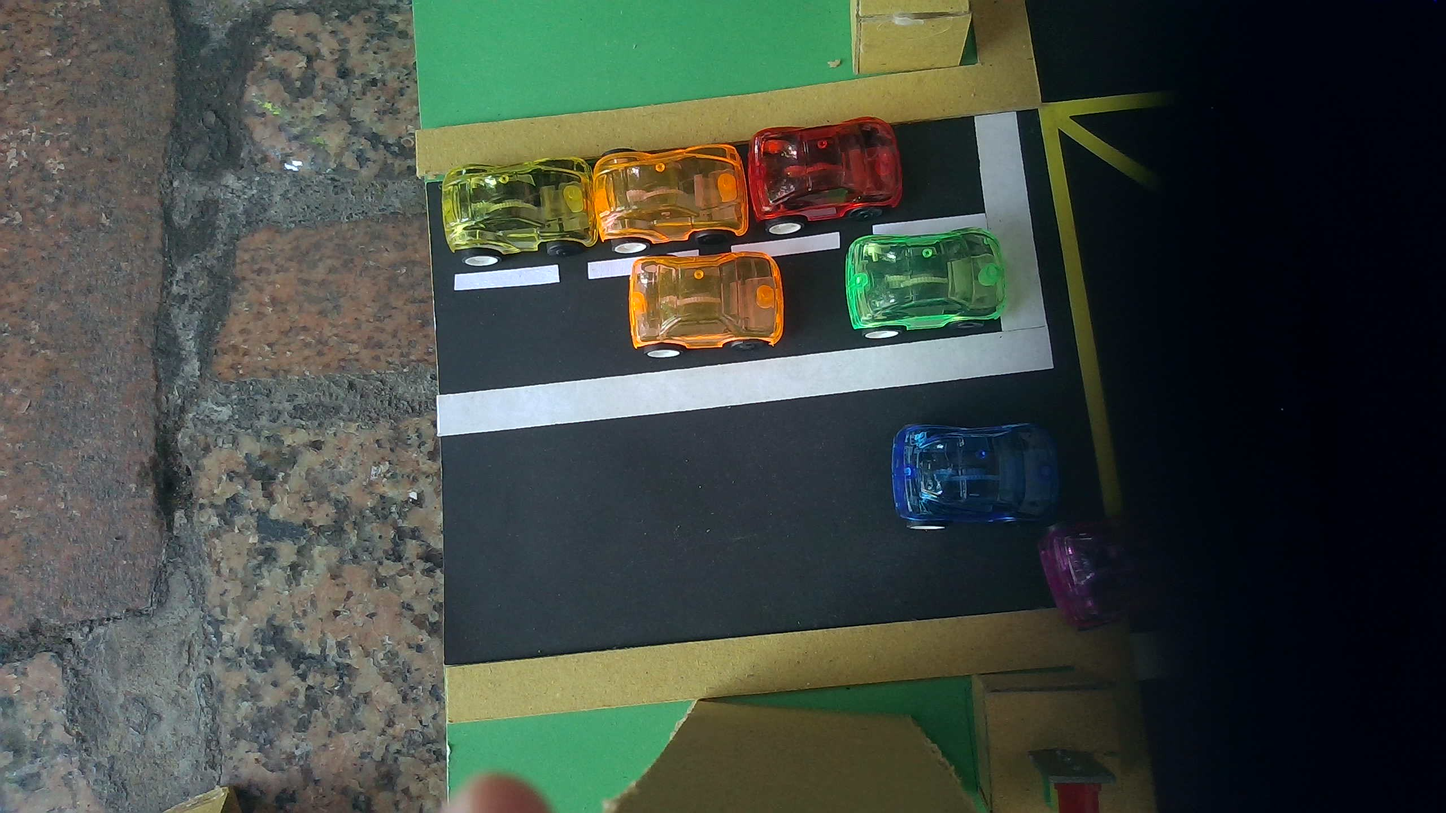Mobil hijau: (845, 228, 1005, 338)
Mobil kuning: (441, 157, 597, 265)
Mobil merah: (747, 117, 902, 234)
Mobil orange: (590, 144, 749, 253), (628, 252, 785, 357)
